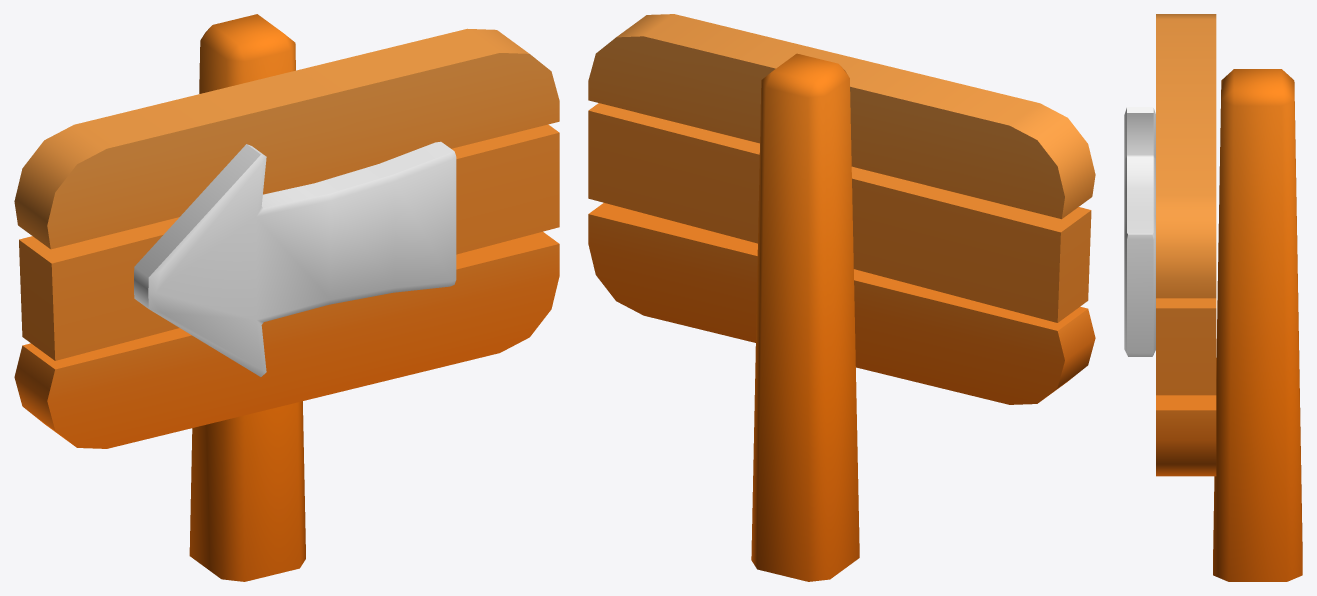
Rendered from Prop_Wooden_Sign_02.fbx.
3 renders of one model, left to right at view 1: azimuth 30°, elevation 25°; view 2: azimuth 150°, elevation 25°; view 3: azimuth 270°, elevation 25°, orthographic. The views are drawn at different scales.
Parts seen in each view (by area): view 1: Prop_Wooden_Sign_02; view 2: Prop_Wooden_Sign_02; view 3: Prop_Wooden_Sign_02.
Part boxes in pixels (box(x1,y1,x2,y2)): Prop_Wooden_Sign_02: box(14, 14, 559, 581); Prop_Wooden_Sign_02: box(588, 14, 1095, 581); Prop_Wooden_Sign_02: box(1124, 14, 1302, 581).
Bounding box in the file's own units: 90.11 × 88.8 × 29.65.
